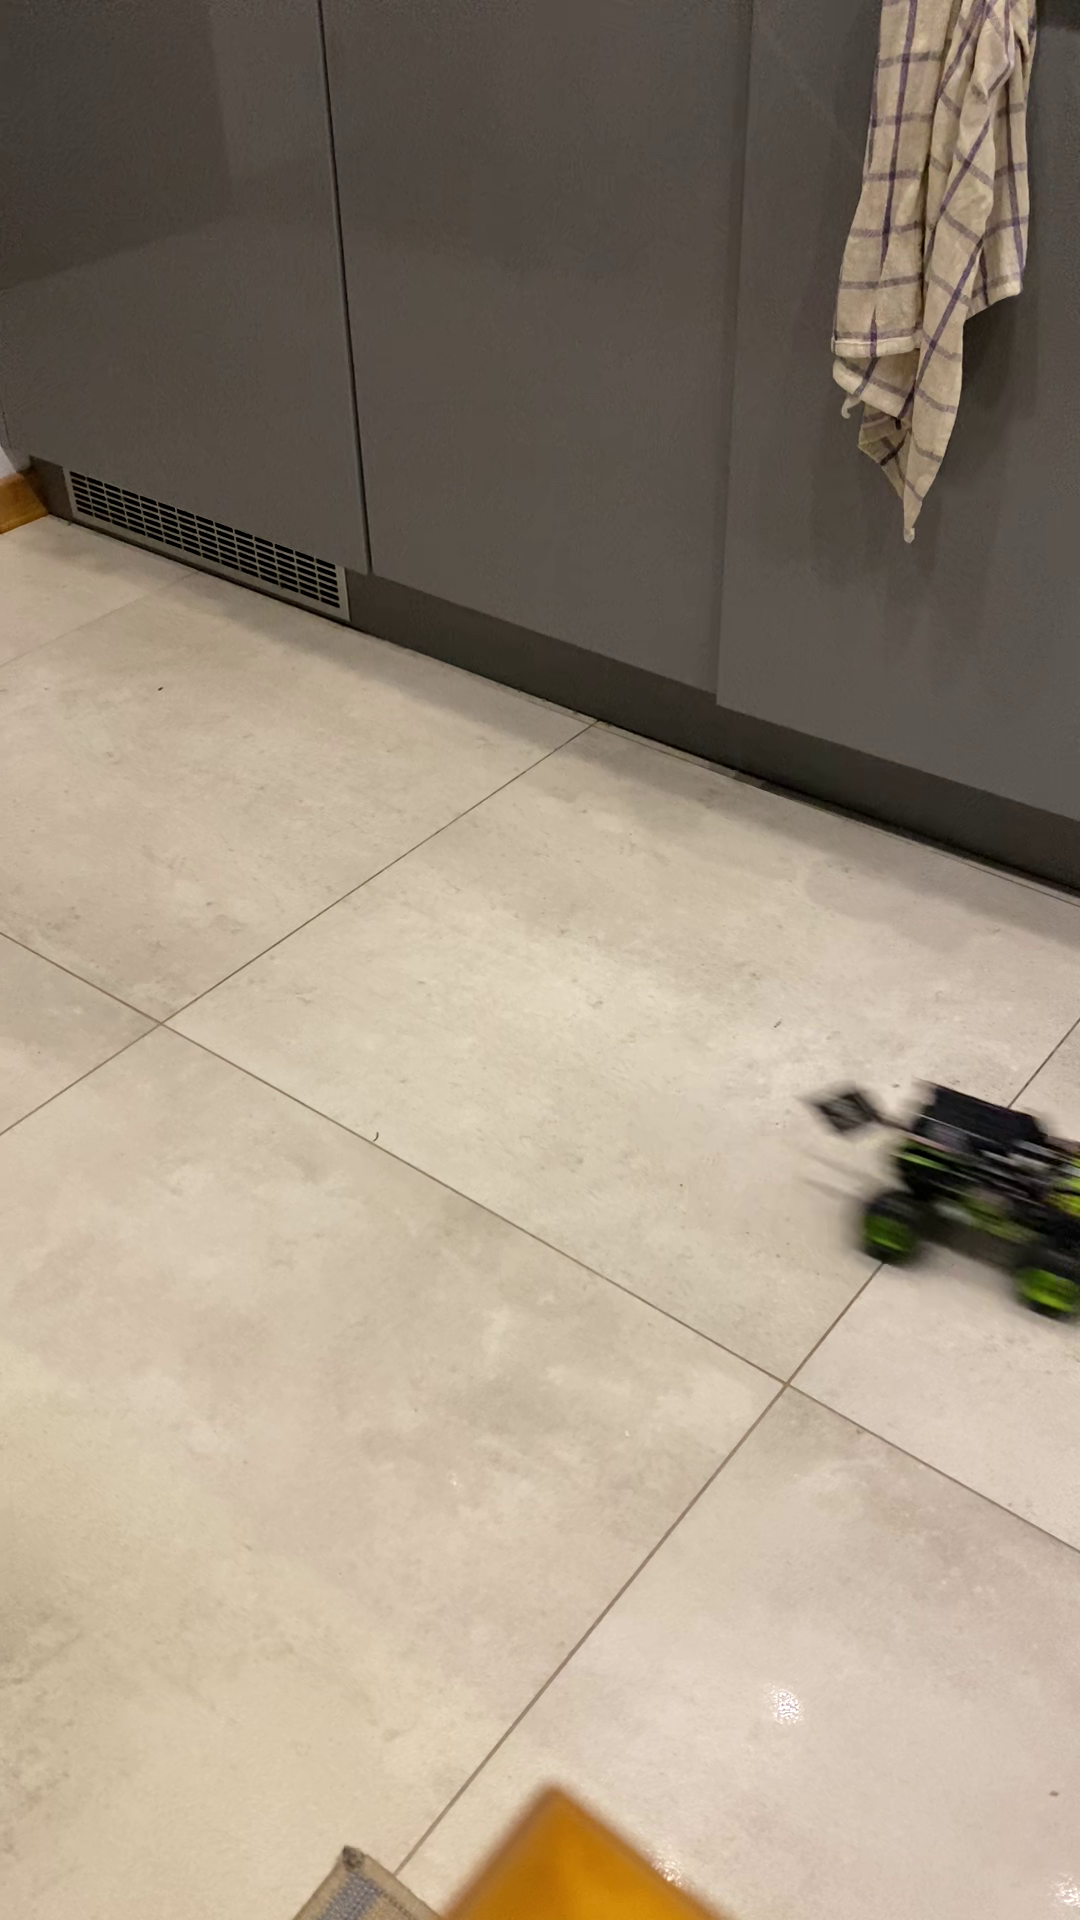car: (851, 1081, 1080, 1317)
